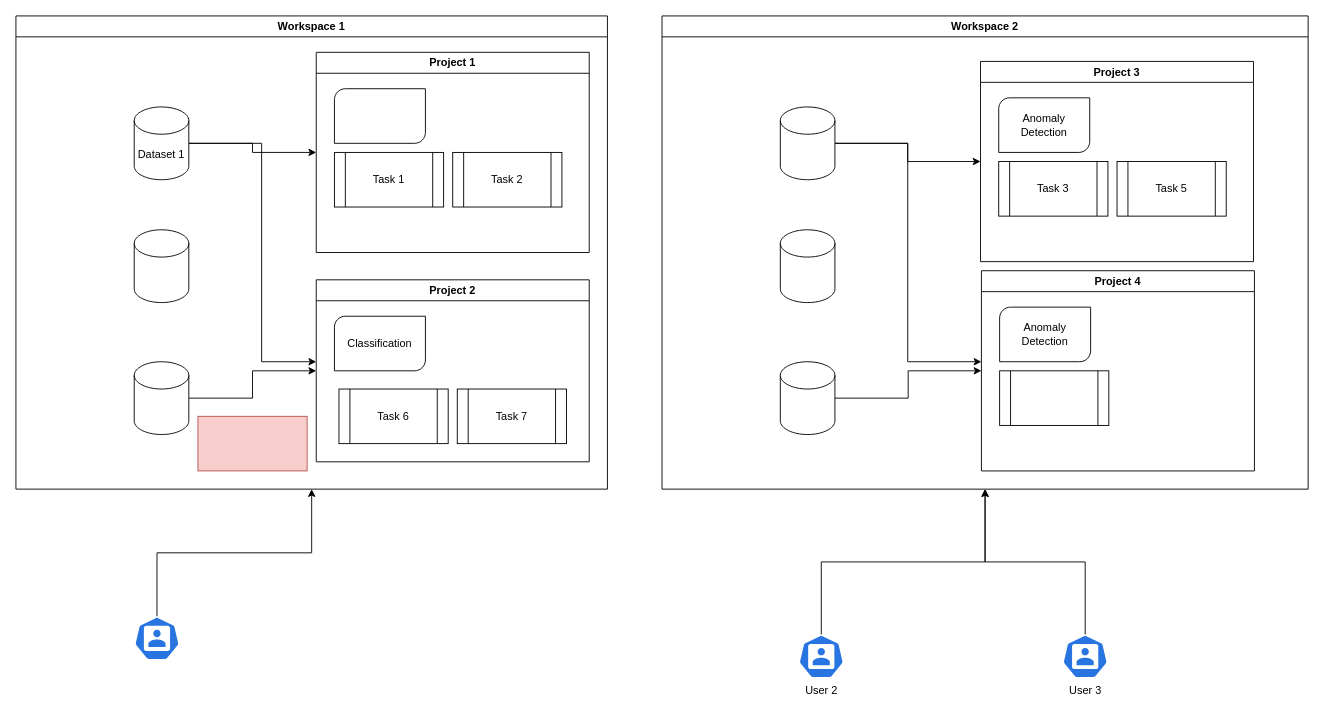
Image size: 1324x713. Some labels were removed from this diagram. Here are the shapes that lost their labels. From the top down, the centre of each, then its label:
pixel 379 115: Segmentation
pixel 807 143: Dataset 4
pixel 161 266: Dataset 2
pixel 807 266: Dataset 5
pixel 161 398: Dataset 3
pixel 807 398: Dataset 6
pixel 1054 397: Task 4
pixel 252 443: Project 是否可以接收多個 Data source?
pixel 156 638: User 1
